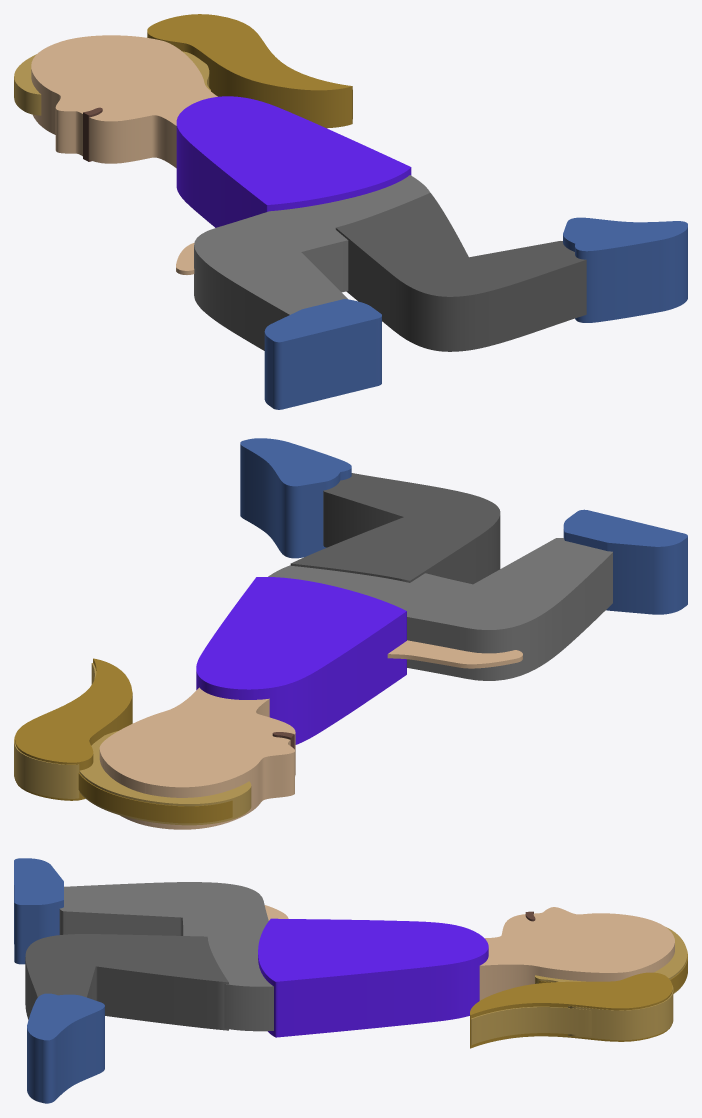
Rendered from emoji_u1f9ce_1f3fc_200d_2640.glb.
3 views of the same model, one above another, from view 1: azimuth 30°, elevation 25°; view 2: azimuth 150°, elevation 25°; view 3: azimuth 270°, elevation 25° (orthographic). The views are drawn at different scales.
Parts seen in each view (by area): view 1: emoji_u1f9ce_1f3fc_200d_2640; view 2: emoji_u1f9ce_1f3fc_200d_2640; view 3: emoji_u1f9ce_1f3fc_200d_2640.
Part boxes in pixels (box(x1,y1,x2,y2)): emoji_u1f9ce_1f3fc_200d_2640: box(14, 14, 687, 409); emoji_u1f9ce_1f3fc_200d_2640: box(14, 438, 687, 829); emoji_u1f9ce_1f3fc_200d_2640: box(14, 858, 687, 1103).
Size of the model in its own units: 0.0212 by 0.0034 by 0.0329.
